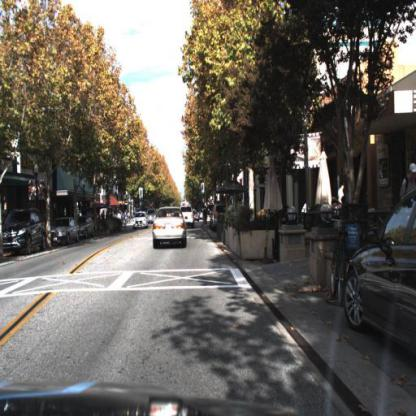car: (343, 189, 416, 365), (3, 209, 48, 258), (150, 207, 188, 252), (50, 217, 81, 248), (53, 217, 82, 248), (76, 215, 101, 241), (133, 208, 150, 231), (180, 205, 196, 226)
pedestrian: (399, 162, 416, 228), (335, 182, 347, 206), (338, 180, 346, 207)
